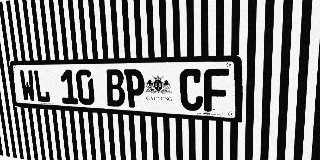0: (75, 69, 95, 105)
1: (59, 70, 78, 104)
B: (105, 69, 126, 107)
C: (179, 69, 203, 111)
F: (204, 68, 229, 113)
L: (33, 70, 51, 103)
P: (124, 69, 146, 108)
W: (19, 70, 36, 102)
